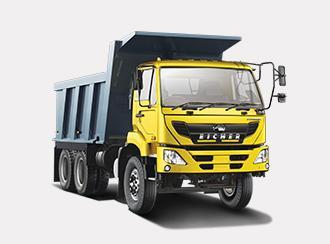truck: (52, 30, 286, 214)
